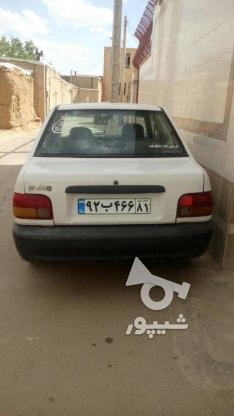car: (76, 196, 151, 214)
